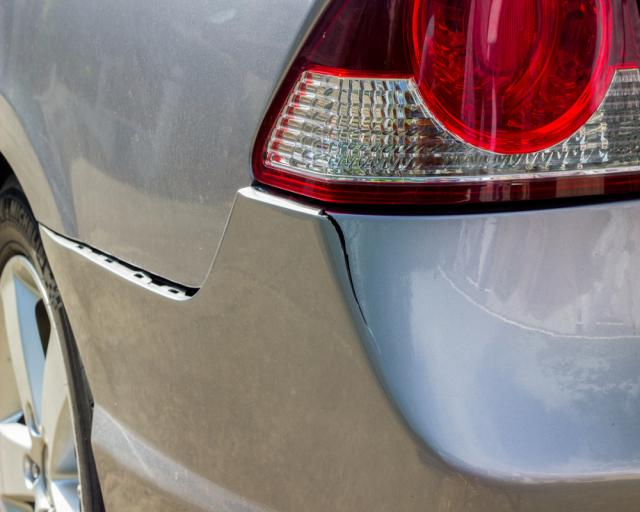crack: (318, 209, 382, 365)
